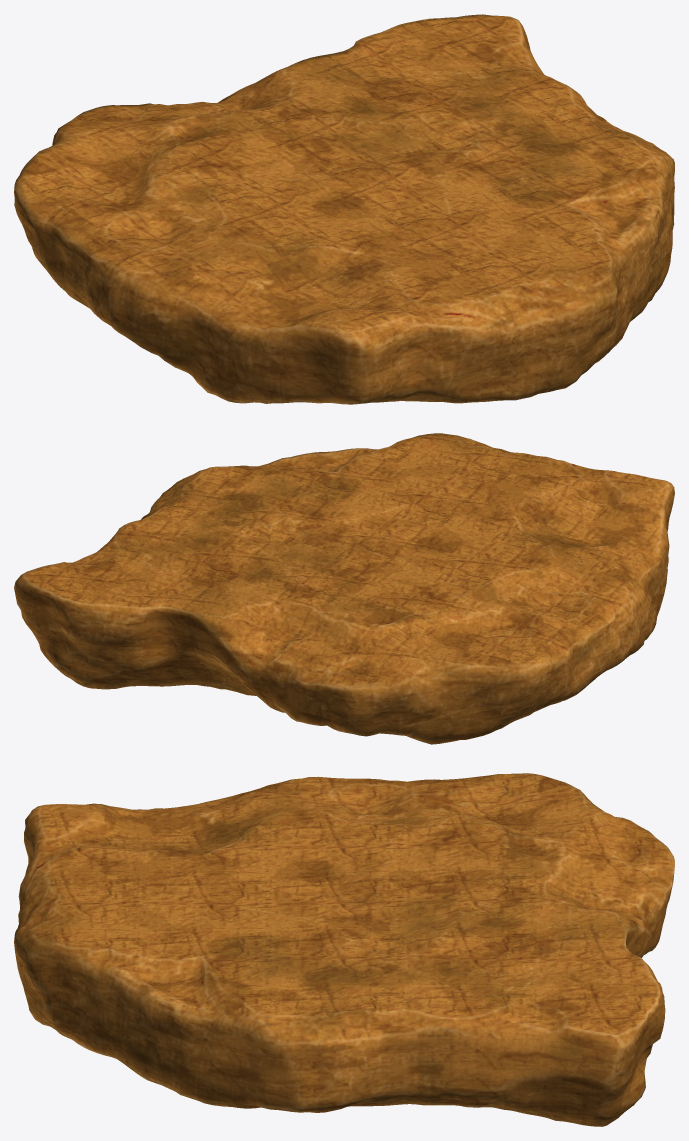
The picture shows the model from 3 angles, top to bottom: view 1: azimuth 30°, elevation 25°; view 2: azimuth 150°, elevation 25°; view 3: azimuth 270°, elevation 25°; orthographic projection. The views are drawn at different scales.
Parts seen in each view (by area): view 1: P7DesertCliff-High; view 2: P7DesertCliff-High; view 3: P7DesertCliff-High.
Part boxes in pixels (x1=…): P7DesertCliff-High: x1=14, y1=14, x2=674, y2=404; P7DesertCliff-High: x1=14, y1=433, x2=674, y2=744; P7DesertCliff-High: x1=14, y1=773, x2=674, y2=1126.
Size of the model in its own units: 167 by 35.42 by 167.
Materials: 1 (1 with a texture image).
